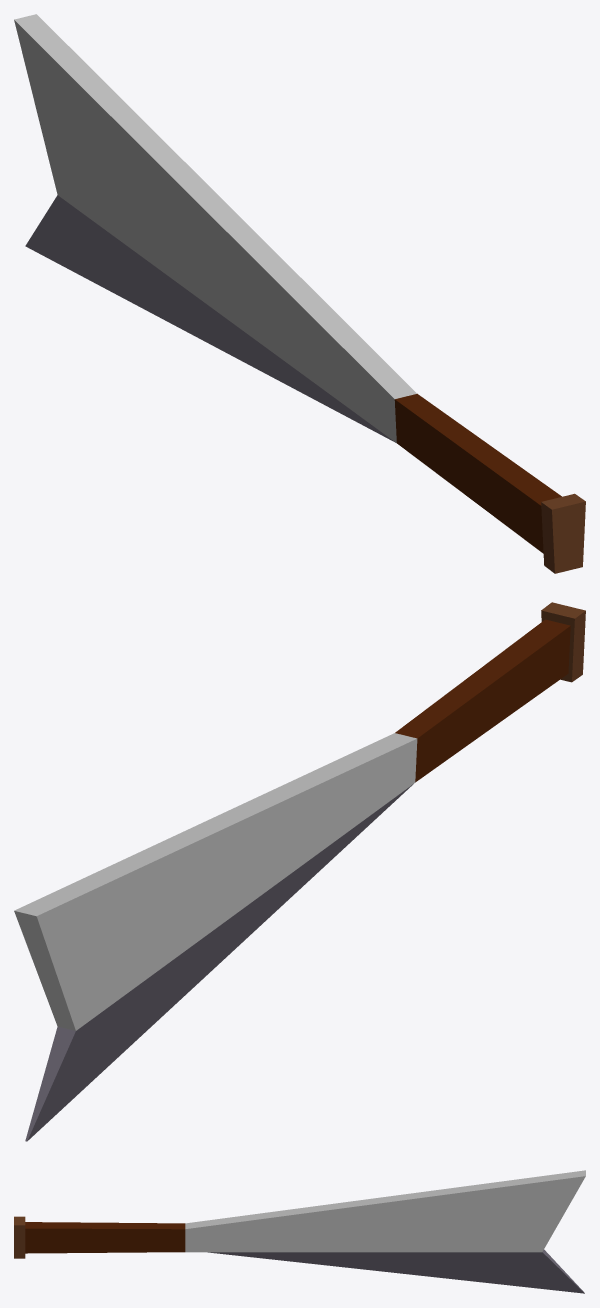
The model's file is Res01_Knife1.fbx.
3 renders of one model, top to bottom at view 1: azimuth 30°, elevation 25°; view 2: azimuth 150°, elevation 25°; view 3: azimuth 270°, elevation 25°, orthographic. The views are drawn at different scales.
Visible parts, largest first — view 1: Res01_Knife1; view 2: Res01_Knife1; view 3: Res01_Knife1.
Boxes of the visible parts, box(x1,y1,x2,y2) form: Res01_Knife1: box(14, 14, 585, 573); Res01_Knife1: box(14, 602, 585, 1141); Res01_Knife1: box(14, 1170, 585, 1293).
Bounding box in the file's own units: 3.08 × 19.77 × 85.22.
